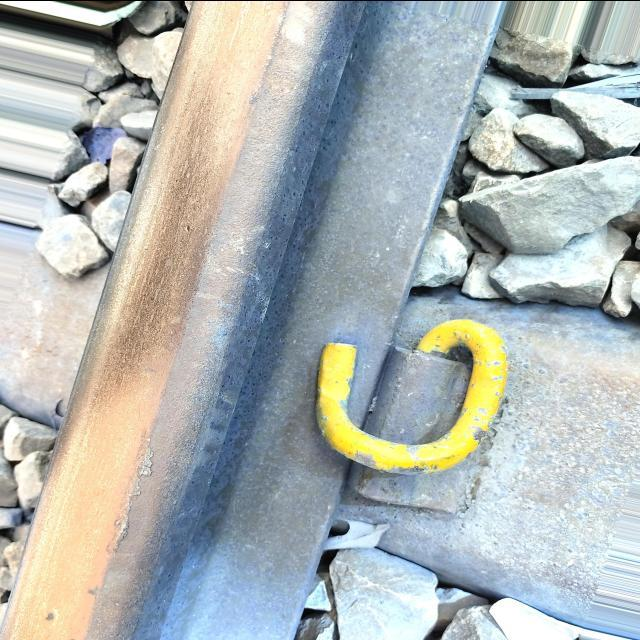broken_rail_medium: (112, 434, 156, 552), (246, 91, 261, 107), (44, 609, 58, 622), (86, 586, 102, 596)
